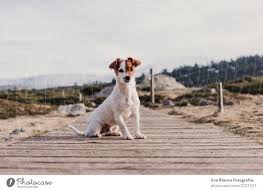dog_sitting: (67, 56, 148, 141)
